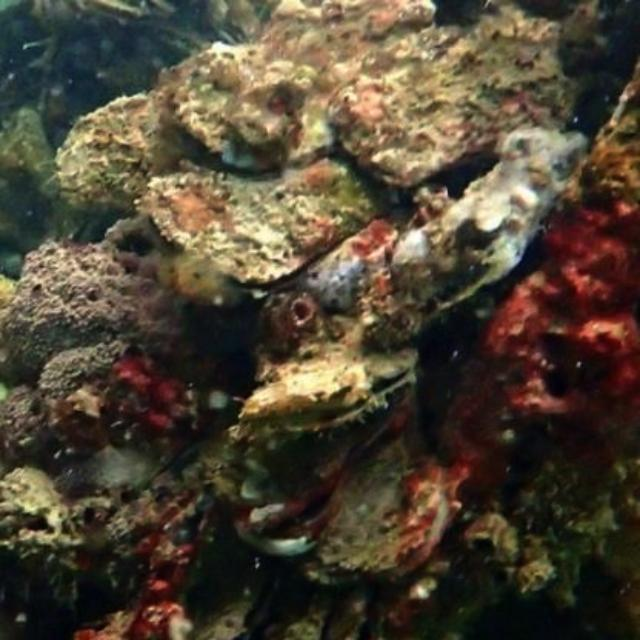Oyster-Closed: (326, 10, 574, 183), (394, 129, 584, 309), (60, 91, 328, 213), (155, 48, 331, 165), (259, 0, 444, 99), (0, 106, 63, 200), (67, 0, 157, 28), (154, 25, 208, 57)
Oyster-Open: (143, 161, 401, 299), (238, 345, 418, 445), (194, 557, 287, 638), (326, 586, 387, 638)
